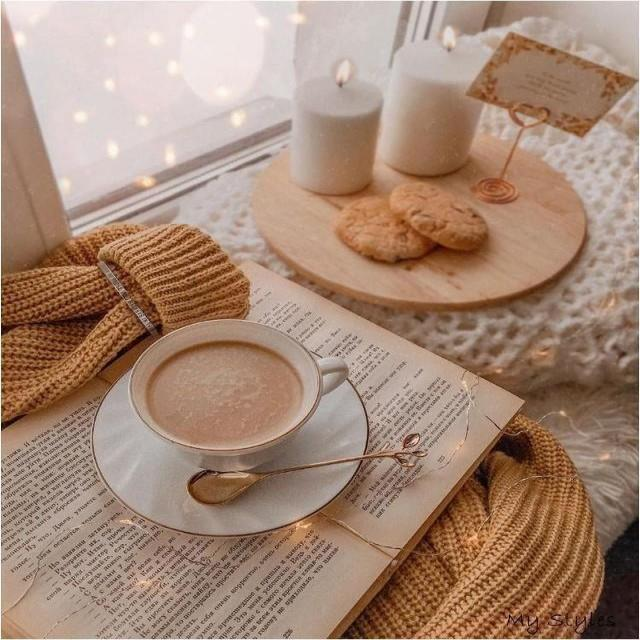cup-handle: (127, 318, 350, 472)
